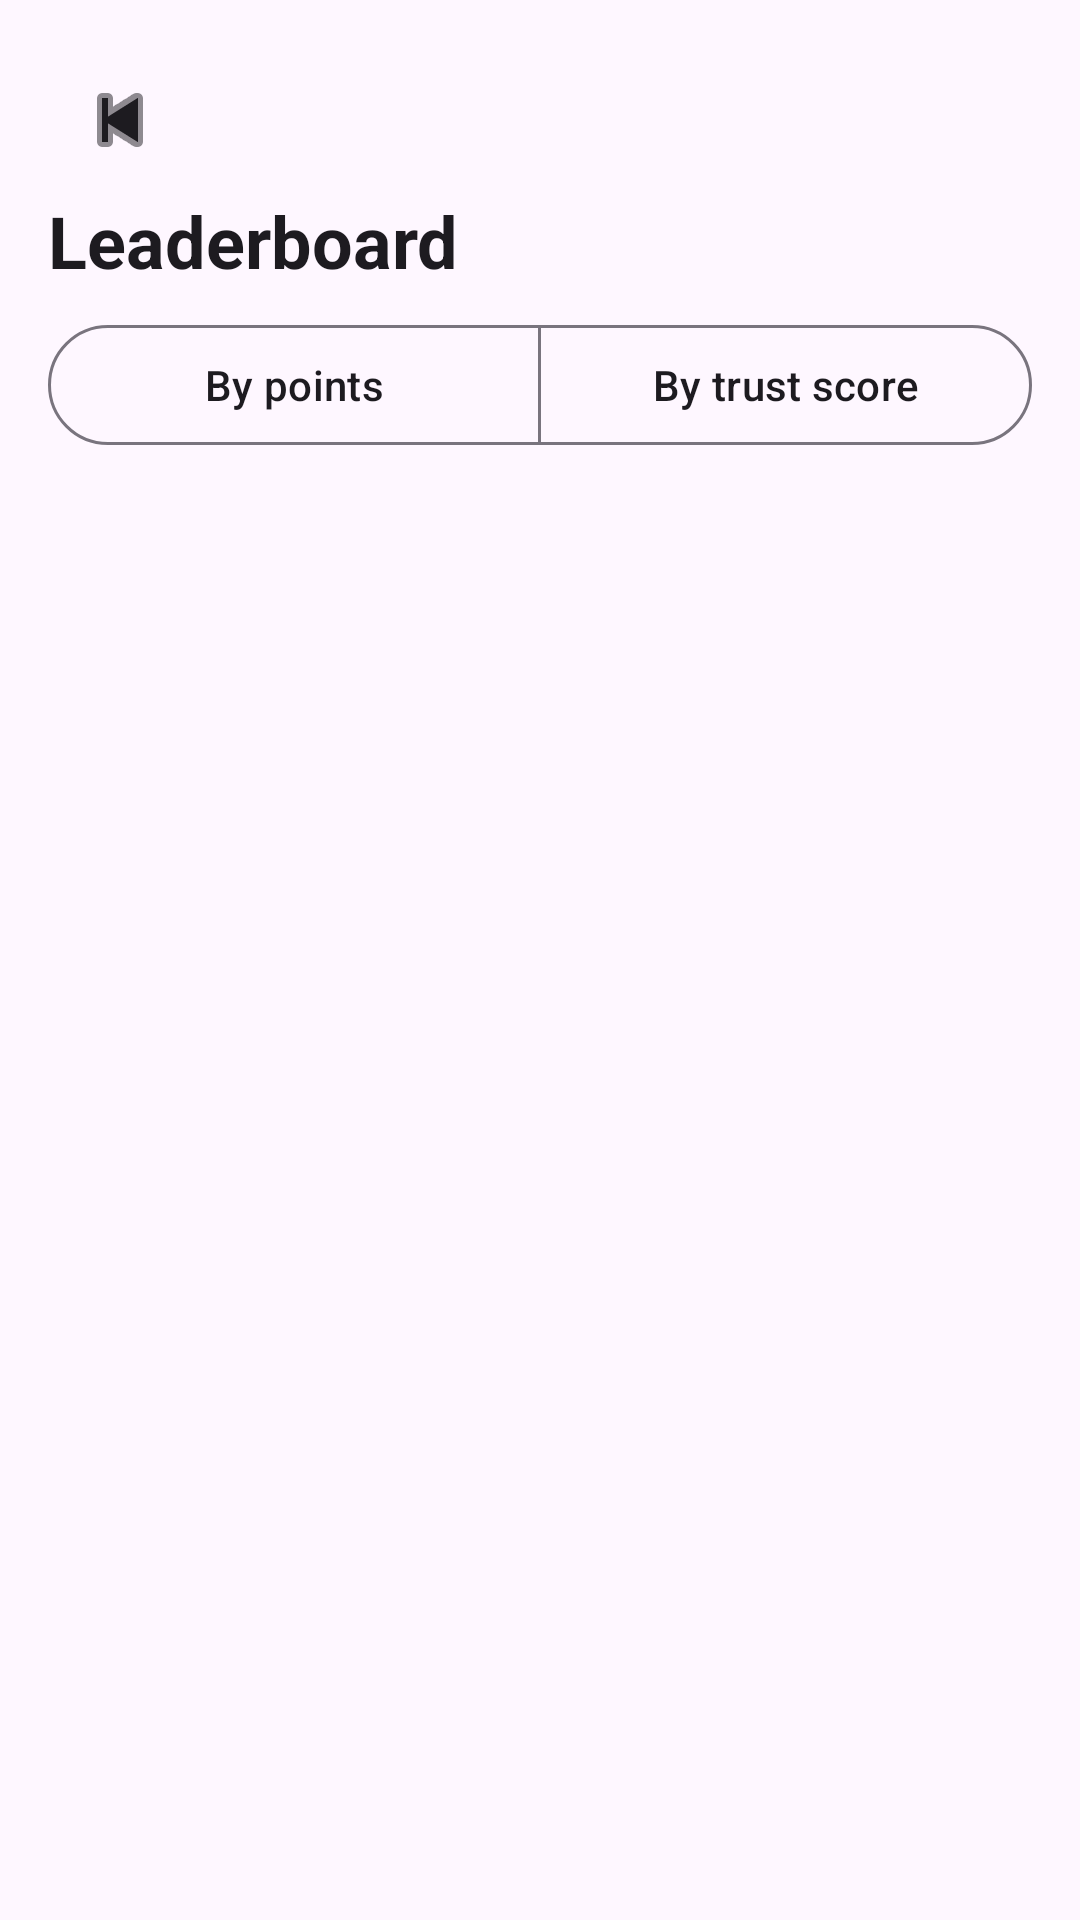

Icons on this 1080*1920 Android screen, each with the point to tap as [x,y]:
Back: [120,120]
